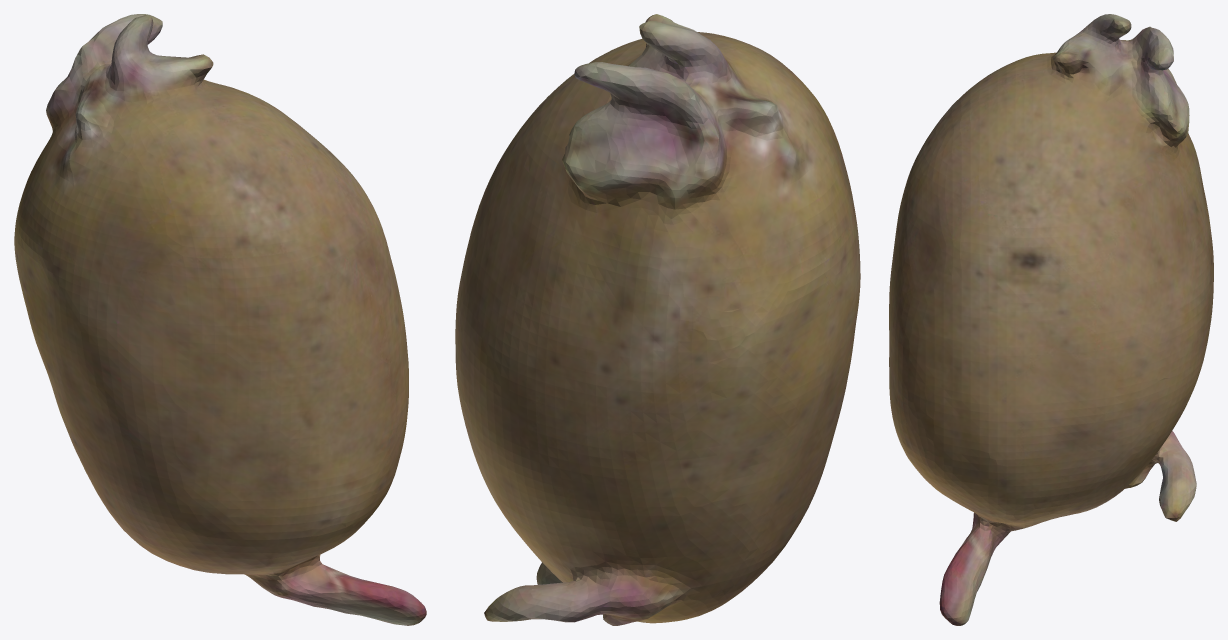
File: potatoPaperScan3.obj
The picture shows the model from 3 angles, left to right: view 1: azimuth 30°, elevation 25°; view 2: azimuth 150°, elevation 25°; view 3: azimuth 270°, elevation 25°; orthographic projection. The views are drawn at different scales.
Parts seen in each view (by area): view 1: potatoPaperScan3; view 2: potatoPaperScan3; view 3: potatoPaperScan3.
Boxes of the visible parts, box(x1,y1,x2,y2) form: potatoPaperScan3: box(14, 14, 426, 625); potatoPaperScan3: box(455, 14, 860, 625); potatoPaperScan3: box(889, 14, 1213, 625).
Bounding box in the file's own units: 50.88 × 90.74 × 50.6.
